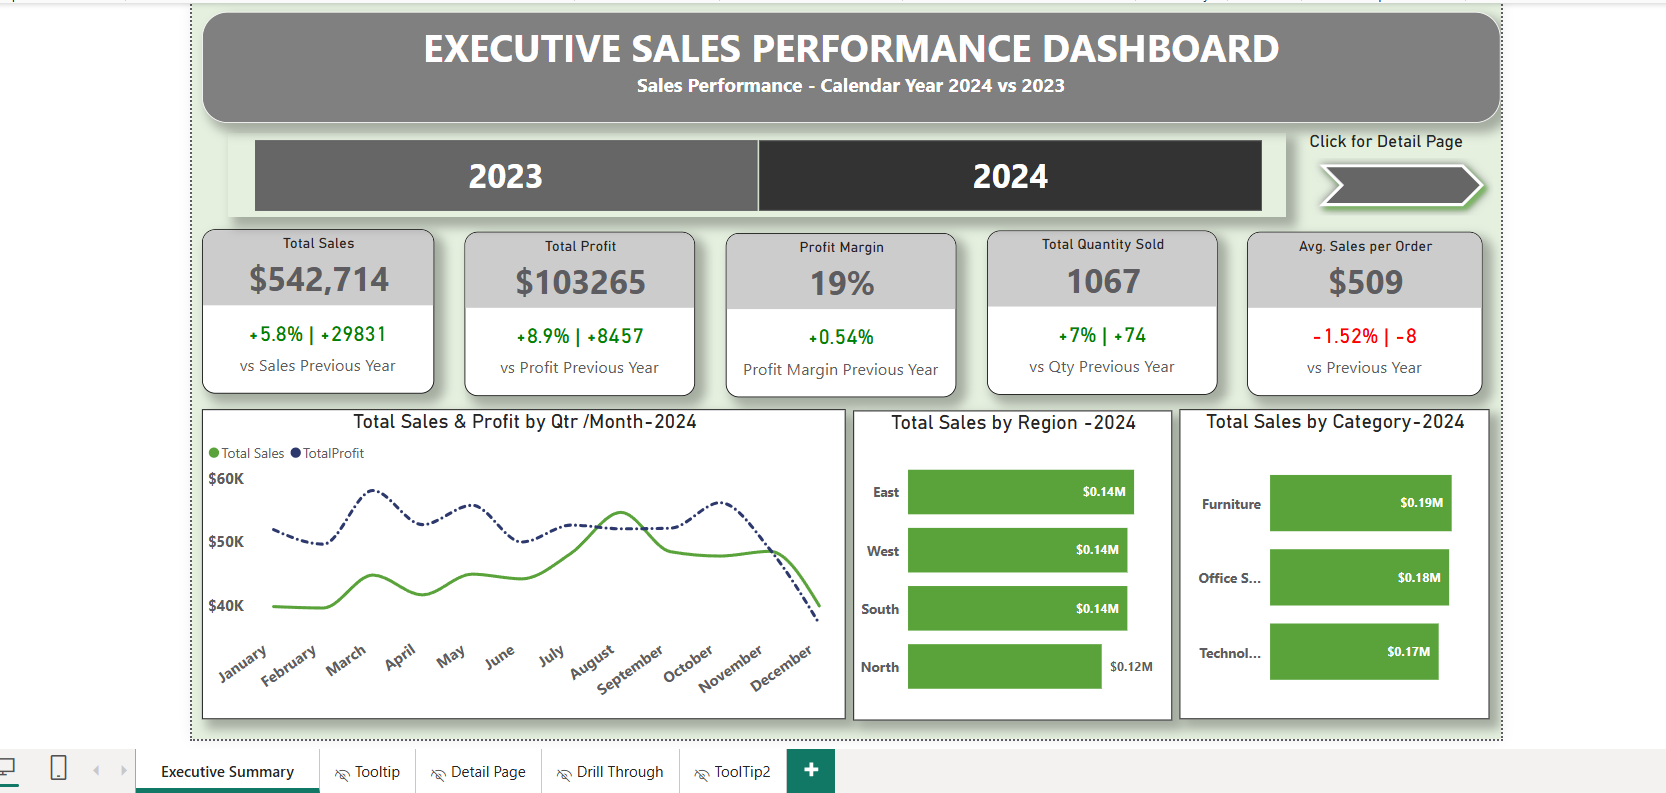

Layout of this report page (visuals, bound fields, positions):
{"tool":"powerbi","page":{"name":"Executive Summary","canvas":[1280,720],"ordinal":0},"visuals":[{"type":"textbox","box":[9.6,8.3,1270.6,108.9],"z":0},{"type":"card","title":"Total Sales","fields":{"Values":["Sales.vs Previous Year"]},"box":[9.7,221.7,226.8,160.5],"z":1000},{"type":"card","title":"Total Profit","fields":{"Values":["Sales.vs Profit Previous Year"]},"box":[266.3,223.5,225.6,160.5],"z":2000},{"type":"card","title":"Total Quantity Sold","fields":{"Values":["Sales.vs Qty Previous Year"]},"box":[777.2,222.6,225.6,160.5],"z":3000},{"type":"card","title":"Profit  Margin","fields":{"Values":["Sales.Profit_Margin_PY"]},"box":[521.8,224.4,225.6,160.5],"z":4000},{"type":"slicer","fields":{"Values":["Date_Table.Year"]},"box":[35.8,126.8,1035,82.7],"z":5000},{"type":"card","title":"Avg. Sales per Order","fields":{"Values":["Sales.vs Avg. Sales per Order Previous Year"]},"box":[1031.5,223.2,230.4,160.5],"z":6000},{"type":"lineChart","fields":{"Y":["Sales.Total Sales"],"Category":["Date_Table.Quarter","Date_Table.Month Name"],"Y2":["Sales.TotalProfit"]},"box":[9.6,396.9,629.8,303.2],"z":7000},{"type":"clusteredBarChart","fields":{"Category":["Sales.Region"],"Y":["Sales.Total Sales"]},"box":[646.3,396.9,312.8,303.2],"z":8000},{"type":"actionButton","title":"Click for Detail Page","box":[1093.2,124.7,179.8,83.2],"z":9000},{"type":"clusteredBarChart","fields":{"Y":["Sales.Total Sales"],"Category":["Category.Category"]},"box":[966.1,396.9,303.2,303.2],"z":10000}]}

Visuals, with their boxes on the page's 1280x720 design canvas (x1, y1, x2, y2). These are canvas units, not pixel positions in the 1666x793 screenshot, which may show the page scaled, cropped or inside an application window:
textbox: (left=10, top=8, right=1280, bottom=117)
"Total Sales" card: (left=10, top=222, right=236, bottom=382)
"Total Profit" card: (left=266, top=224, right=492, bottom=384)
"Total Quantity Sold" card: (left=777, top=223, right=1003, bottom=383)
"Profit  Margin" card: (left=522, top=224, right=747, bottom=385)
slicer - Date_Table.Year: (left=36, top=127, right=1071, bottom=210)
"Avg. Sales per Order" card: (left=1032, top=223, right=1262, bottom=384)
lineChart - Sales.Total Sales x Date_Table.Quarter: (left=10, top=397, right=639, bottom=700)
clusteredBarChart - Sales.Region x Sales.Total Sales: (left=646, top=397, right=959, bottom=700)
"Click for Detail Page" actionButton: (left=1093, top=125, right=1273, bottom=208)
clusteredBarChart - Sales.Total Sales x Category.Category: (left=966, top=397, right=1269, bottom=700)
